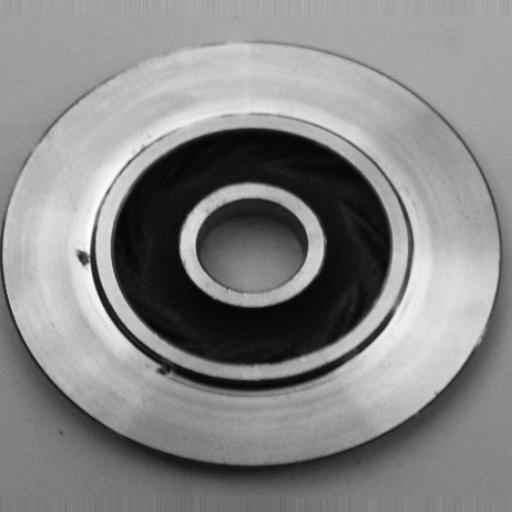crack: (68, 240, 100, 274), (150, 356, 180, 384)
unpolished_casting: (2, 40, 504, 473)
